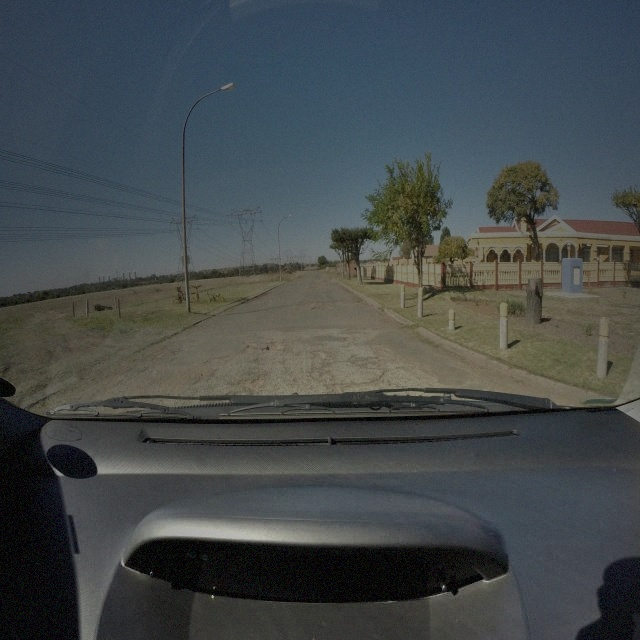pothole: (198, 355, 231, 382), (240, 373, 266, 395), (244, 342, 264, 357), (265, 342, 282, 356), (315, 349, 332, 361), (328, 383, 342, 394), (311, 302, 328, 310)
